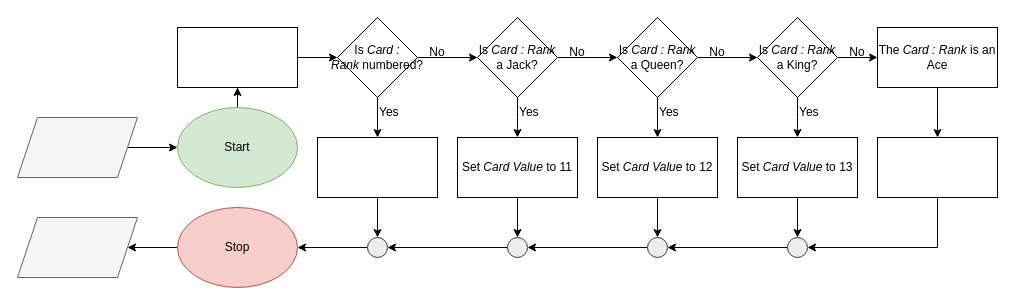
Some shapes in this 1015 by 305 pixel diagram are drawn without their labels. The shapes that lost their labels are listed below. From the top down, each one's centre as x and y in pixels, then its label:
At pixel 237 57: "Play a card".
At pixel 77 147: "Card".
At pixel 377 167: "Set Card Value to Card: Rank".
At pixel 937 167: "Set Card Value to 14".
At pixel 77 247: "Card Value".
